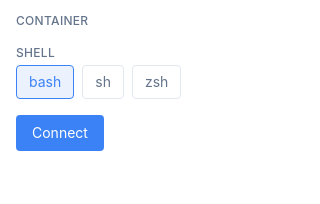
Test: TerminalPanel › shows error when OpenExecSession rejects
Click the button "Connect".
click(60, 133)  # box [16,115,104,151]
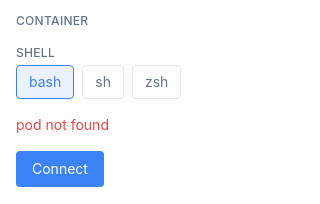
Expected: the text "pod not found" is shown, [16,116,109,133]
